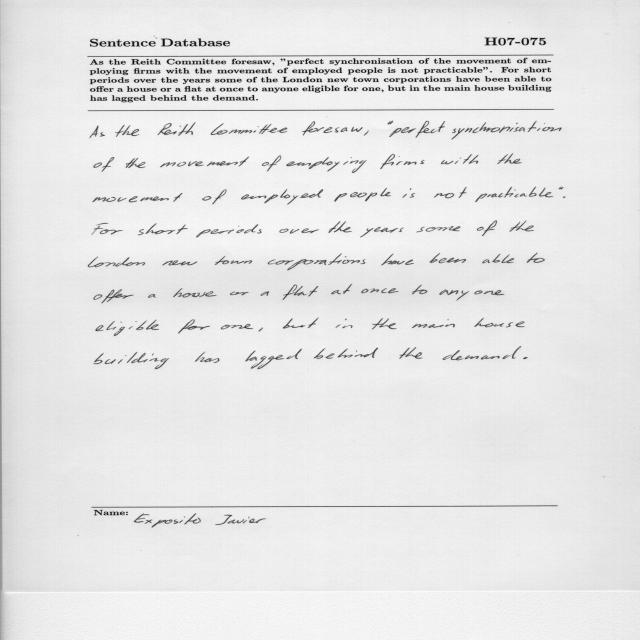word: (451, 121, 562, 139), (268, 254, 366, 271), (476, 187, 564, 202), (241, 189, 323, 205), (286, 157, 367, 173), (94, 352, 169, 369), (245, 349, 302, 369), (443, 346, 521, 360), (96, 320, 159, 336), (160, 157, 249, 168), (389, 121, 445, 138), (302, 121, 363, 136), (211, 123, 287, 135), (196, 225, 262, 238), (93, 193, 182, 202), (334, 188, 391, 202), (440, 290, 505, 301), (314, 348, 378, 359), (380, 154, 425, 169), (88, 257, 145, 268), (138, 224, 188, 236), (283, 284, 319, 300), (94, 289, 134, 303), (158, 122, 196, 136), (178, 319, 210, 334), (474, 318, 525, 327), (360, 227, 404, 237), (441, 154, 478, 165), (173, 288, 217, 297), (412, 319, 455, 328), (202, 190, 227, 205), (381, 254, 414, 265), (430, 253, 466, 263), (283, 318, 319, 328), (434, 187, 466, 198), (92, 223, 123, 234), (215, 256, 252, 265), (477, 220, 497, 236), (262, 156, 281, 172), (94, 157, 114, 172), (116, 125, 140, 137), (328, 221, 352, 233), (482, 254, 514, 263), (399, 347, 422, 359), (372, 318, 397, 329), (416, 226, 461, 232), (510, 221, 534, 232), (195, 352, 219, 363), (497, 154, 522, 164), (332, 284, 353, 294), (126, 158, 146, 168), (279, 229, 319, 234), (90, 125, 105, 138), (361, 288, 399, 293), (527, 253, 545, 263), (162, 261, 197, 266), (336, 319, 353, 329), (221, 324, 253, 329), (412, 285, 427, 294), (402, 188, 415, 198), (230, 292, 249, 296), (261, 291, 269, 296), (148, 294, 156, 298), (364, 131, 369, 136), (259, 328, 263, 332), (388, 121, 393, 124), (523, 357, 528, 359), (563, 196, 565, 198)
